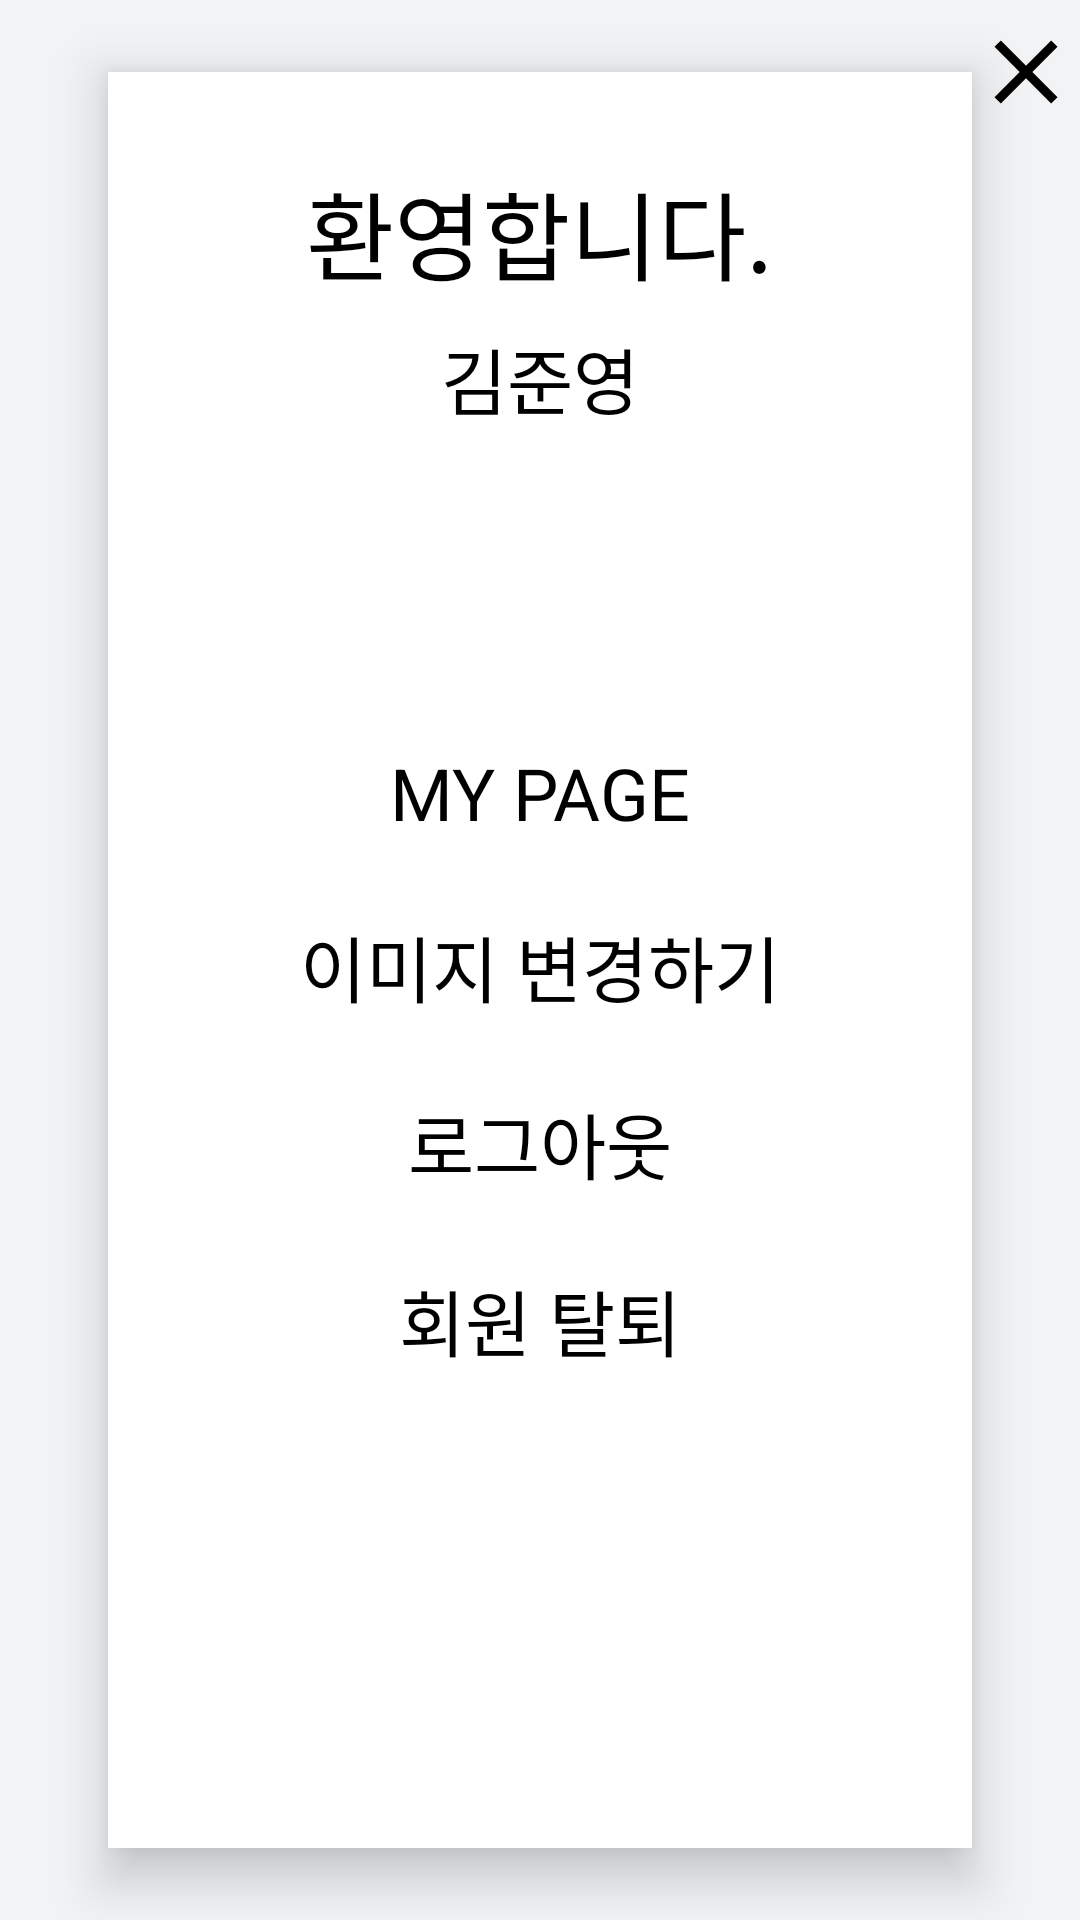

Named icons in this screenshot (1080×1920) and their bounding boxes, (left=x1, top=y1, right=x2, bottom=y2):
close: (left=994, top=40, right=1058, bottom=104)
